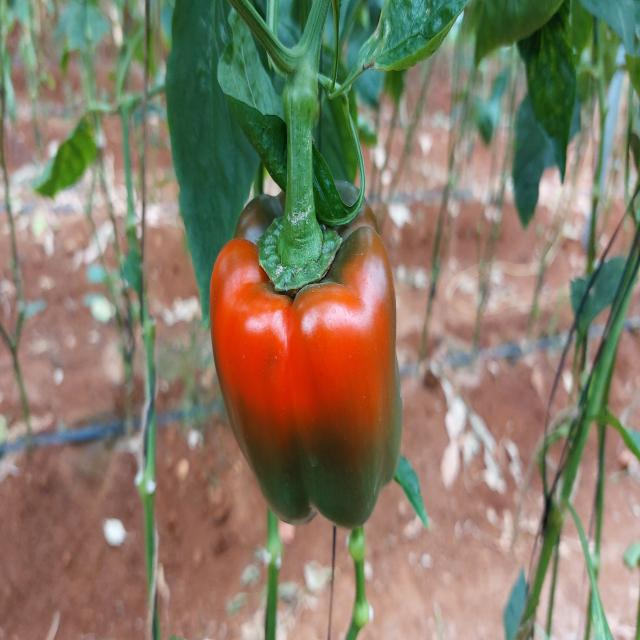Red-Ready-to-Harvest: (205, 184, 422, 541)
